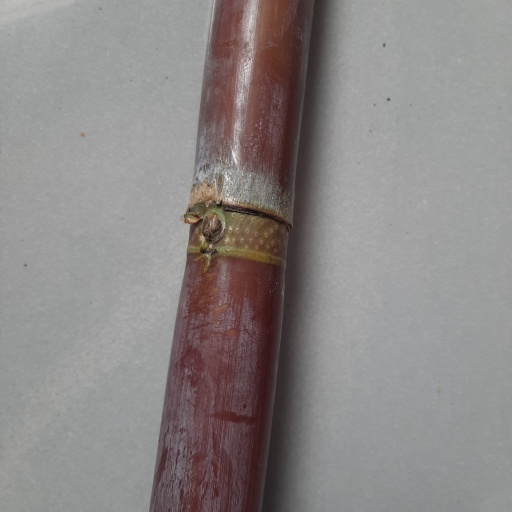Bud: (201, 212, 225, 242)
